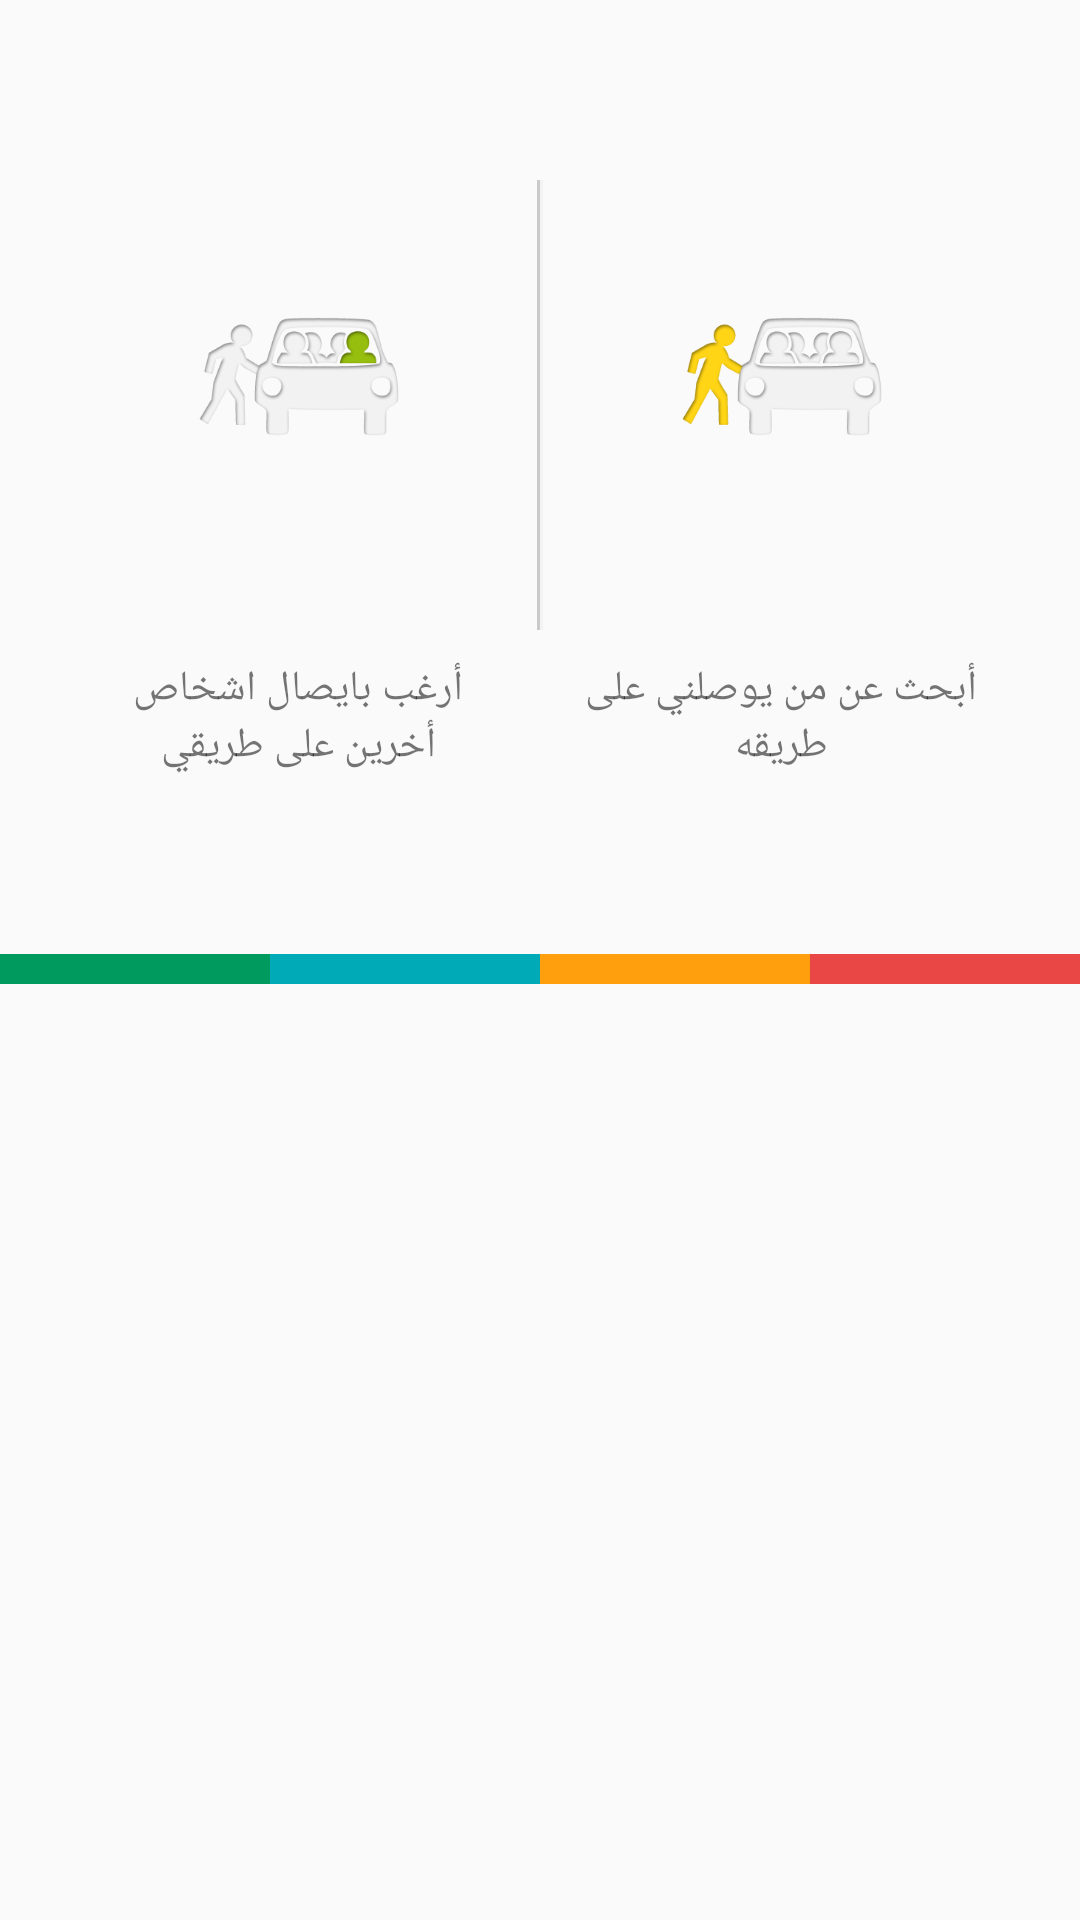

Named icons in this screenshot (1080px×1920px) and their centers, (x=x, y=y):
dri: (x=299, y=376)
pass: (x=781, y=376)
